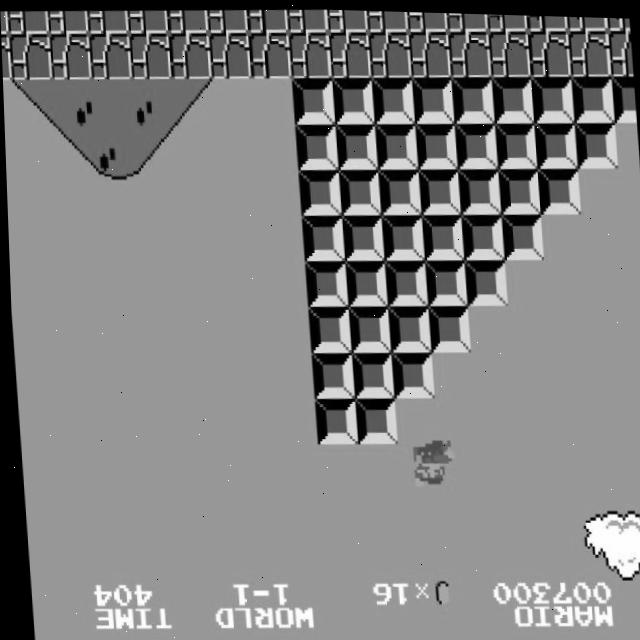11- little_mario: (408, 437, 454, 488)
17- undestructible_block: (287, 29, 332, 77), (247, 29, 292, 77), (207, 30, 252, 78), (167, 30, 212, 78), (127, 31, 172, 79), (87, 31, 132, 79), (47, 32, 92, 80), (7, 32, 52, 80), (567, 26, 611, 74), (527, 26, 571, 74), (487, 27, 531, 75), (447, 27, 491, 75), (407, 27, 451, 75), (367, 28, 411, 76), (327, 29, 371, 77), (607, 26, 633, 73), (246, 7, 289, 32), (206, 7, 249, 32), (166, 8, 209, 33), (126, 8, 169, 33), (86, 9, 129, 34), (46, 9, 89, 34), (6, 10, 49, 35), (286, 7, 328, 32), (325, 8, 368, 31), (365, 8, 408, 30), (405, 9, 448, 29), (445, 10, 488, 29), (485, 11, 527, 29), (525, 12, 567, 28), (565, 13, 607, 28), (1, 33, 11, 80), (606, 14, 629, 28), (0, 11, 9, 34)
9- hard_block: (498, 209, 543, 257), (458, 210, 503, 258), (418, 211, 463, 259), (387, 348, 432, 396), (347, 348, 392, 396), (307, 349, 352, 397), (535, 164, 580, 211), (495, 164, 540, 211), (455, 165, 500, 212), (350, 395, 395, 442), (310, 395, 355, 442), (573, 117, 617, 165), (570, 72, 614, 120), (533, 118, 577, 166), (530, 72, 574, 120), (493, 118, 537, 166), (490, 72, 534, 120), (453, 118, 497, 166), (450, 73, 494, 121), (425, 302, 469, 350), (413, 119, 457, 167), (410, 73, 454, 121), (385, 303, 429, 351), (379, 211, 423, 259), (373, 120, 417, 168), (370, 74, 414, 122), (345, 303, 389, 351), (339, 211, 383, 259), (333, 120, 377, 168), (330, 75, 374, 123), (305, 303, 349, 351), (299, 212, 343, 260), (293, 120, 337, 168), (290, 75, 334, 123), (462, 257, 506, 304), (422, 257, 466, 304), (416, 166, 460, 213), (382, 258, 426, 305), (376, 166, 420, 213), (342, 258, 386, 305), (336, 167, 380, 214), (302, 258, 346, 305), (296, 167, 340, 214), (611, 72, 636, 119)
